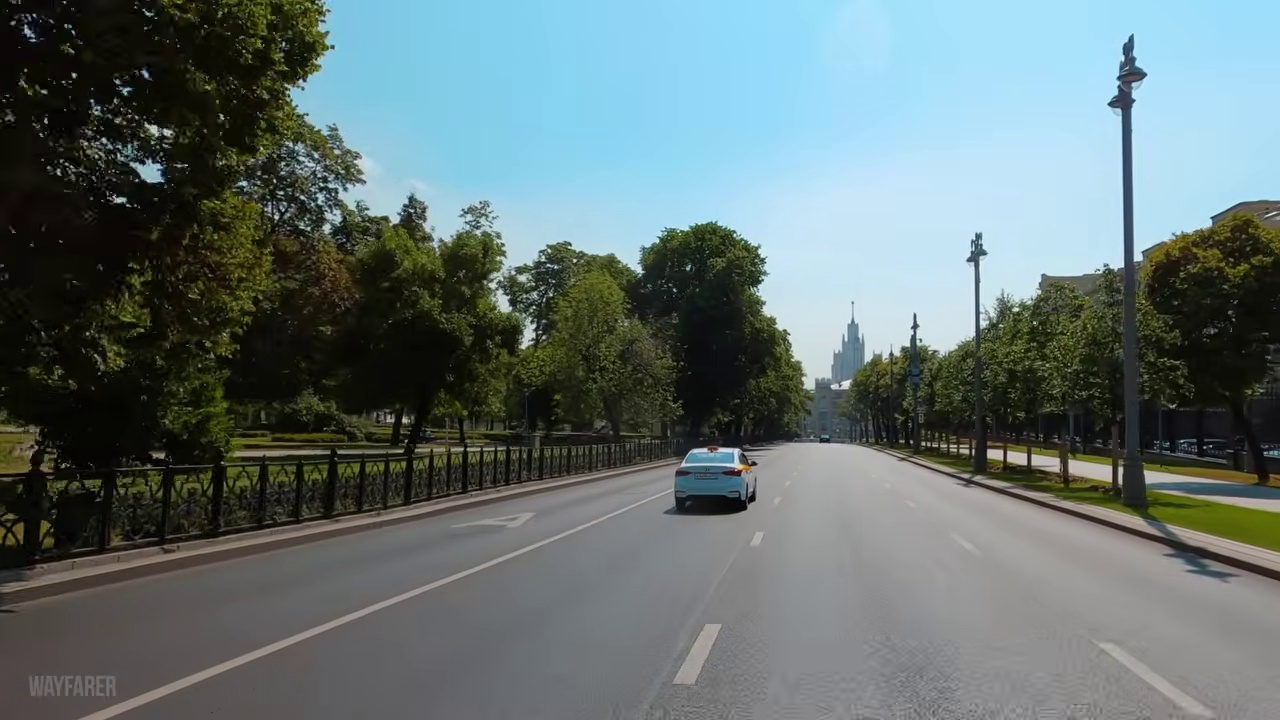apagada: (1108, 43, 1150, 109), (1103, 65, 1148, 117), (962, 231, 990, 268)
